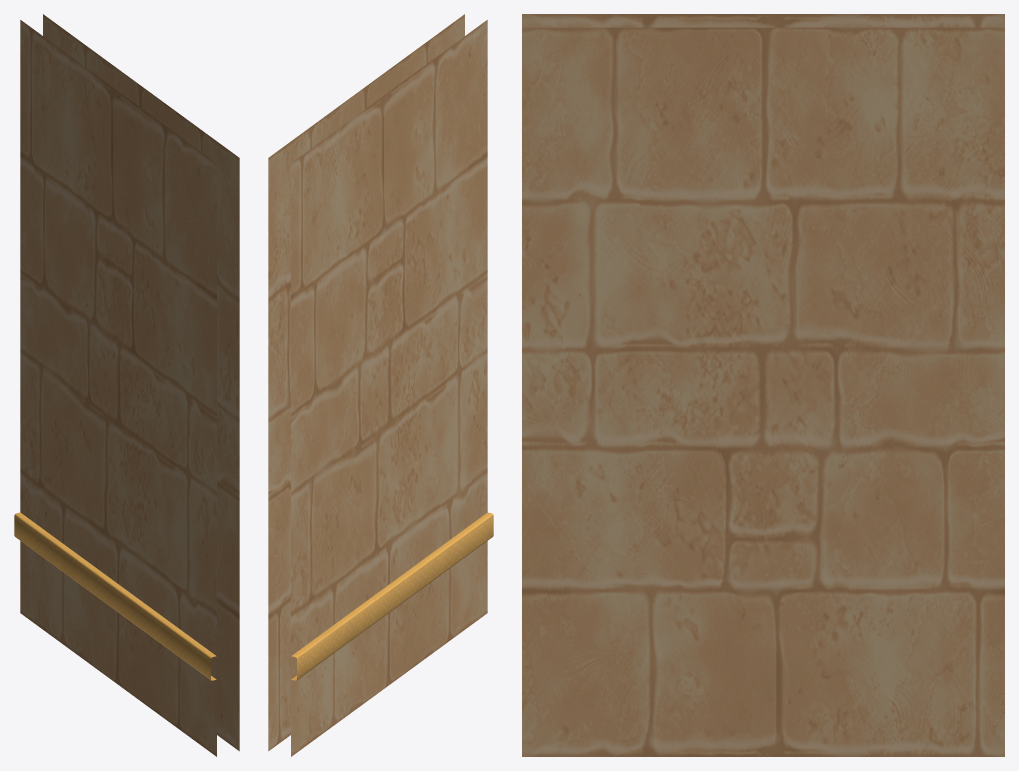
File: SM_Wall_300x500_01.fbx
3 views of the same model, side by side, from view 1: azimuth 30°, elevation 25°; view 2: azimuth 150°, elevation 25°; view 3: azimuth 270°, elevation 25° (orthographic). The views are drawn at different scales.
Parts seen in each view (by area): view 1: SM_Wall_300x500_01_LOD0; view 2: SM_Wall_300x500_01_LOD0; view 3: SM_Wall_300x500_01_LOD0.
Part boxes in pixels (left/top/right/bottom): SM_Wall_300x500_01_LOD0: left=14, top=14, right=239, bottom=756; SM_Wall_300x500_01_LOD0: left=268, top=14, right=493, bottom=756; SM_Wall_300x500_01_LOD0: left=522, top=14, right=1004, bottom=756.
Bounding box in the file's own units: 25.18 × 300 × 500.
